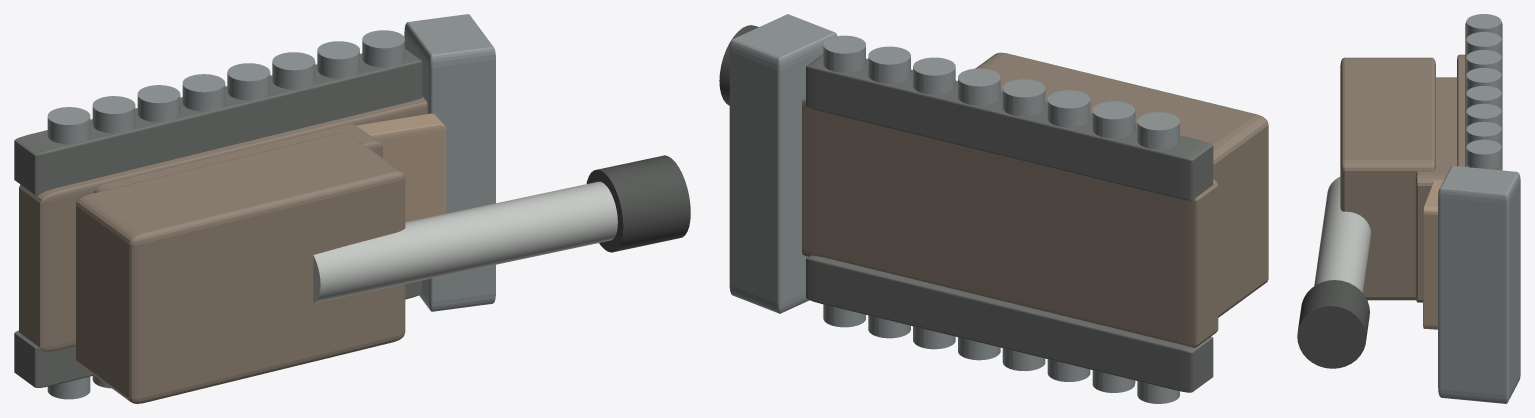
Rendered from d-u19-dominion-siege-tank-lod1.glb.
The picture shows the model from 3 angles, left to right: view 1: azimuth 30°, elevation 25°; view 2: azimuth 150°, elevation 25°; view 3: azimuth 270°, elevation 25°; orthographic projection. The views are drawn at different scales.
Visible parts, largest first — view 1: siege_casemate, chassis_track_1, siege_cannon_barrel_0, siege_dozer, chassis_lower, siege_cannon_muzzle_0, chassis_glacis, chassis_track_-1, upper_hull, chassis_roadwheel_1_4, chassis_roadwheel_1_5, chassis_roadwheel_1_0 (+6 smaller); view 2: chassis_lower, siege_dozer, chassis_track_1, chassis_track_-1, siege_casemate, chassis_roadwheel_1_2, chassis_roadwheel_1_1, chassis_roadwheel_1_3, chassis_roadwheel_1_0, chassis_roadwheel_1_5, chassis_roadwheel_1_4, chassis_roadwheel_1_6 (+10 smaller); view 3: siege_dozer, siege_casemate, siege_cannon_muzzle_0, siege_cannon_barrel_0, upper_hull, chassis_glacis, chassis_lower, chassis_roadwheel_1_7, chassis_roadwheel_1_5, chassis_roadwheel_1_6, chassis_roadwheel_1_1, chassis_roadwheel_1_0 (+4 smaller).
Part boxes in pixels (left/top/right/bottom): siege_casemate: left=76, top=133, right=405, bottom=403; chassis_track_1: left=14, top=49, right=422, bottom=195; siege_cannon_barrel_0: left=313, top=181, right=617, bottom=303; siege_dozer: left=404, top=14, right=495, bottom=311; chassis_lower: left=19, top=96, right=427, bottom=351; siege_cannon_muzzle_0: left=586, top=155, right=690, bottom=252; chassis_glacis: left=356, top=113, right=446, bottom=222; chassis_track_-1: left=14, top=280, right=422, bottom=387; upper_hull: left=94, top=124, right=382, bottom=192; chassis_roadwheel_1_4: left=227, top=63, right=270, bottom=100; chassis_roadwheel_1_5: left=272, top=52, right=315, bottom=89; chassis_roadwheel_1_0: left=47, top=107, right=90, bottom=144; chassis_lower: left=802, top=97, right=1218, bottom=347; siege_dozer: left=729, top=14, right=837, bottom=313; chassis_track_1: left=806, top=54, right=1213, bottom=200; chassis_track_-1: left=806, top=255, right=1213, bottom=392; siege_casemate: left=975, top=52, right=1268, bottom=317; chassis_roadwheel_1_2: left=1047, top=90, right=1090, bottom=127; chassis_roadwheel_1_1: left=1092, top=101, right=1135, bottom=138; chassis_roadwheel_1_3: left=1002, top=79, right=1045, bottom=116; chassis_roadwheel_1_0: left=1137, top=112, right=1179, bottom=149; chassis_roadwheel_1_5: left=913, top=57, right=955, bottom=94; chassis_roadwheel_1_4: left=958, top=68, right=1000, bottom=105; chassis_roadwheel_1_6: left=868, top=46, right=910, bottom=83; siege_dozer: left=1438, top=166, right=1520, bottom=403; siege_casemate: left=1340, top=57, right=1435, bottom=300; siege_cannon_muzzle_0: left=1297, top=280, right=1369, bottom=368; siege_cannon_barrel_0: left=1314, top=177, right=1371, bottom=292; upper_hull: left=1415, top=77, right=1457, bottom=302; chassis_glacis: left=1423, top=180, right=1443, bottom=329; chassis_lower: left=1457, top=54, right=1465, bottom=166; chassis_roadwheel_1_7: left=1466, top=139, right=1501, bottom=169; chassis_roadwheel_1_5: left=1466, top=103, right=1501, bottom=127; chassis_roadwheel_1_6: left=1466, top=121, right=1501, bottom=145; chassis_roadwheel_1_1: left=1466, top=32, right=1501, bottom=55; chassis_roadwheel_1_0: left=1466, top=14, right=1501, bottom=37.
Size of what is drawn, in the model's own units: 11.84 by 5.58 by 5.03.
